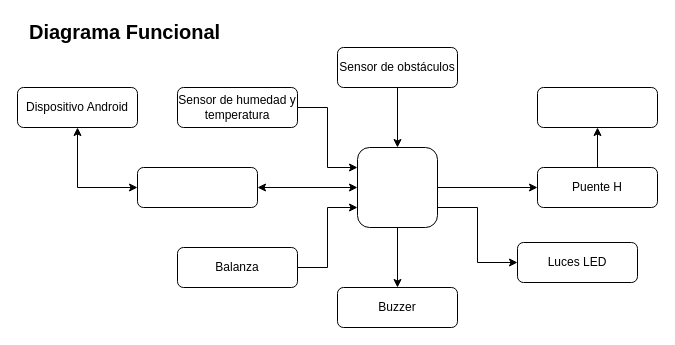
Some shapes in this 675 by 345 pixel diagram are drawn without their labels. Here are the shapes that lost their labels. From the top down, the centre of each, then its label:
At [597,107]: "Motor de Corriente Continua".
At [197,187]: "Módulo Bluetooth".
At [397,187]: "Control".
